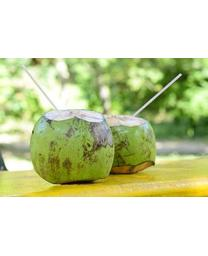coconut: (30, 107, 114, 185), (91, 114, 156, 174)
